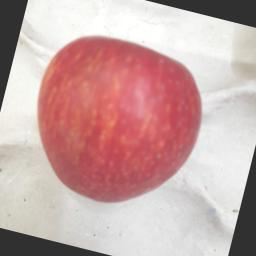Apple Ripe: (12, 14, 227, 230)
